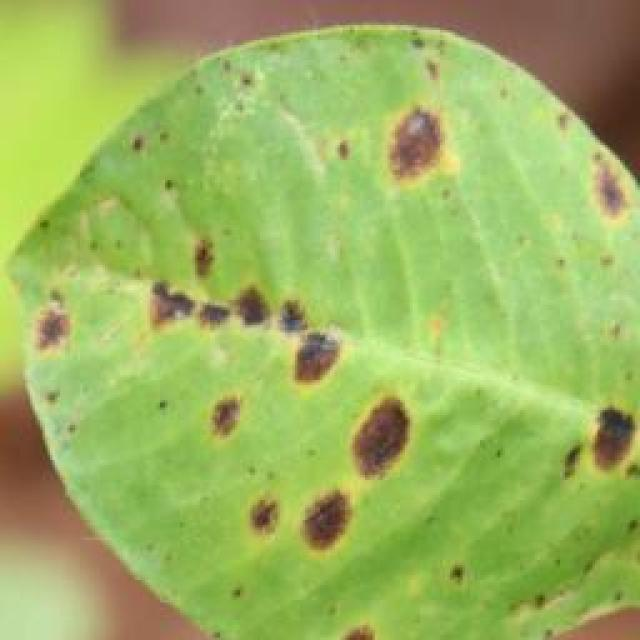Yellowish: (5, 85, 640, 595)
